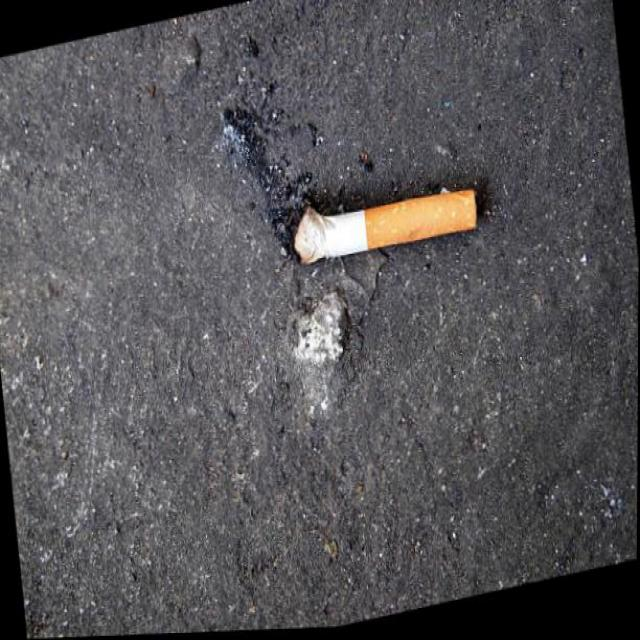cigarette: (286, 172, 479, 276)
